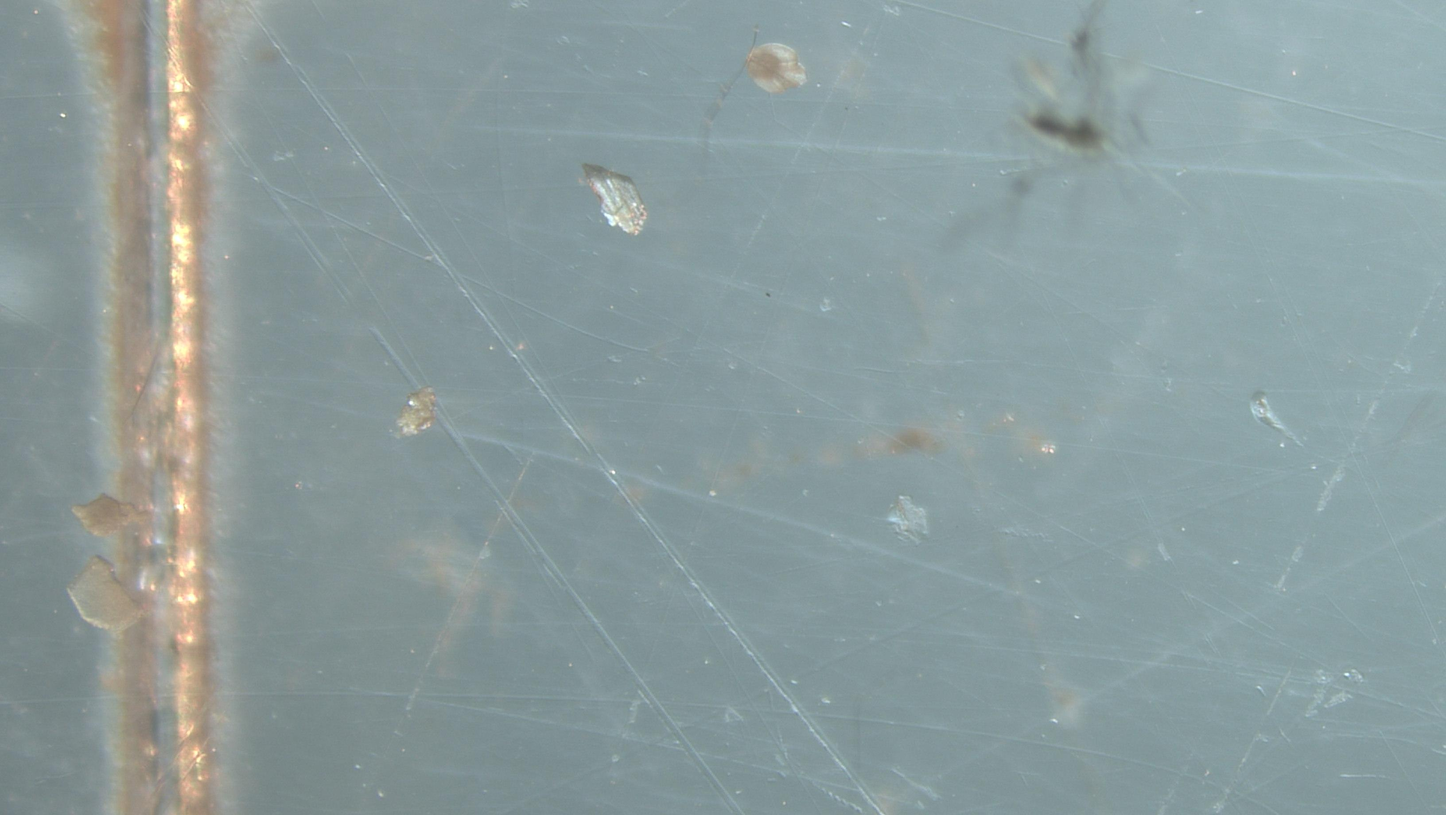live: (746, 43, 807, 93)
